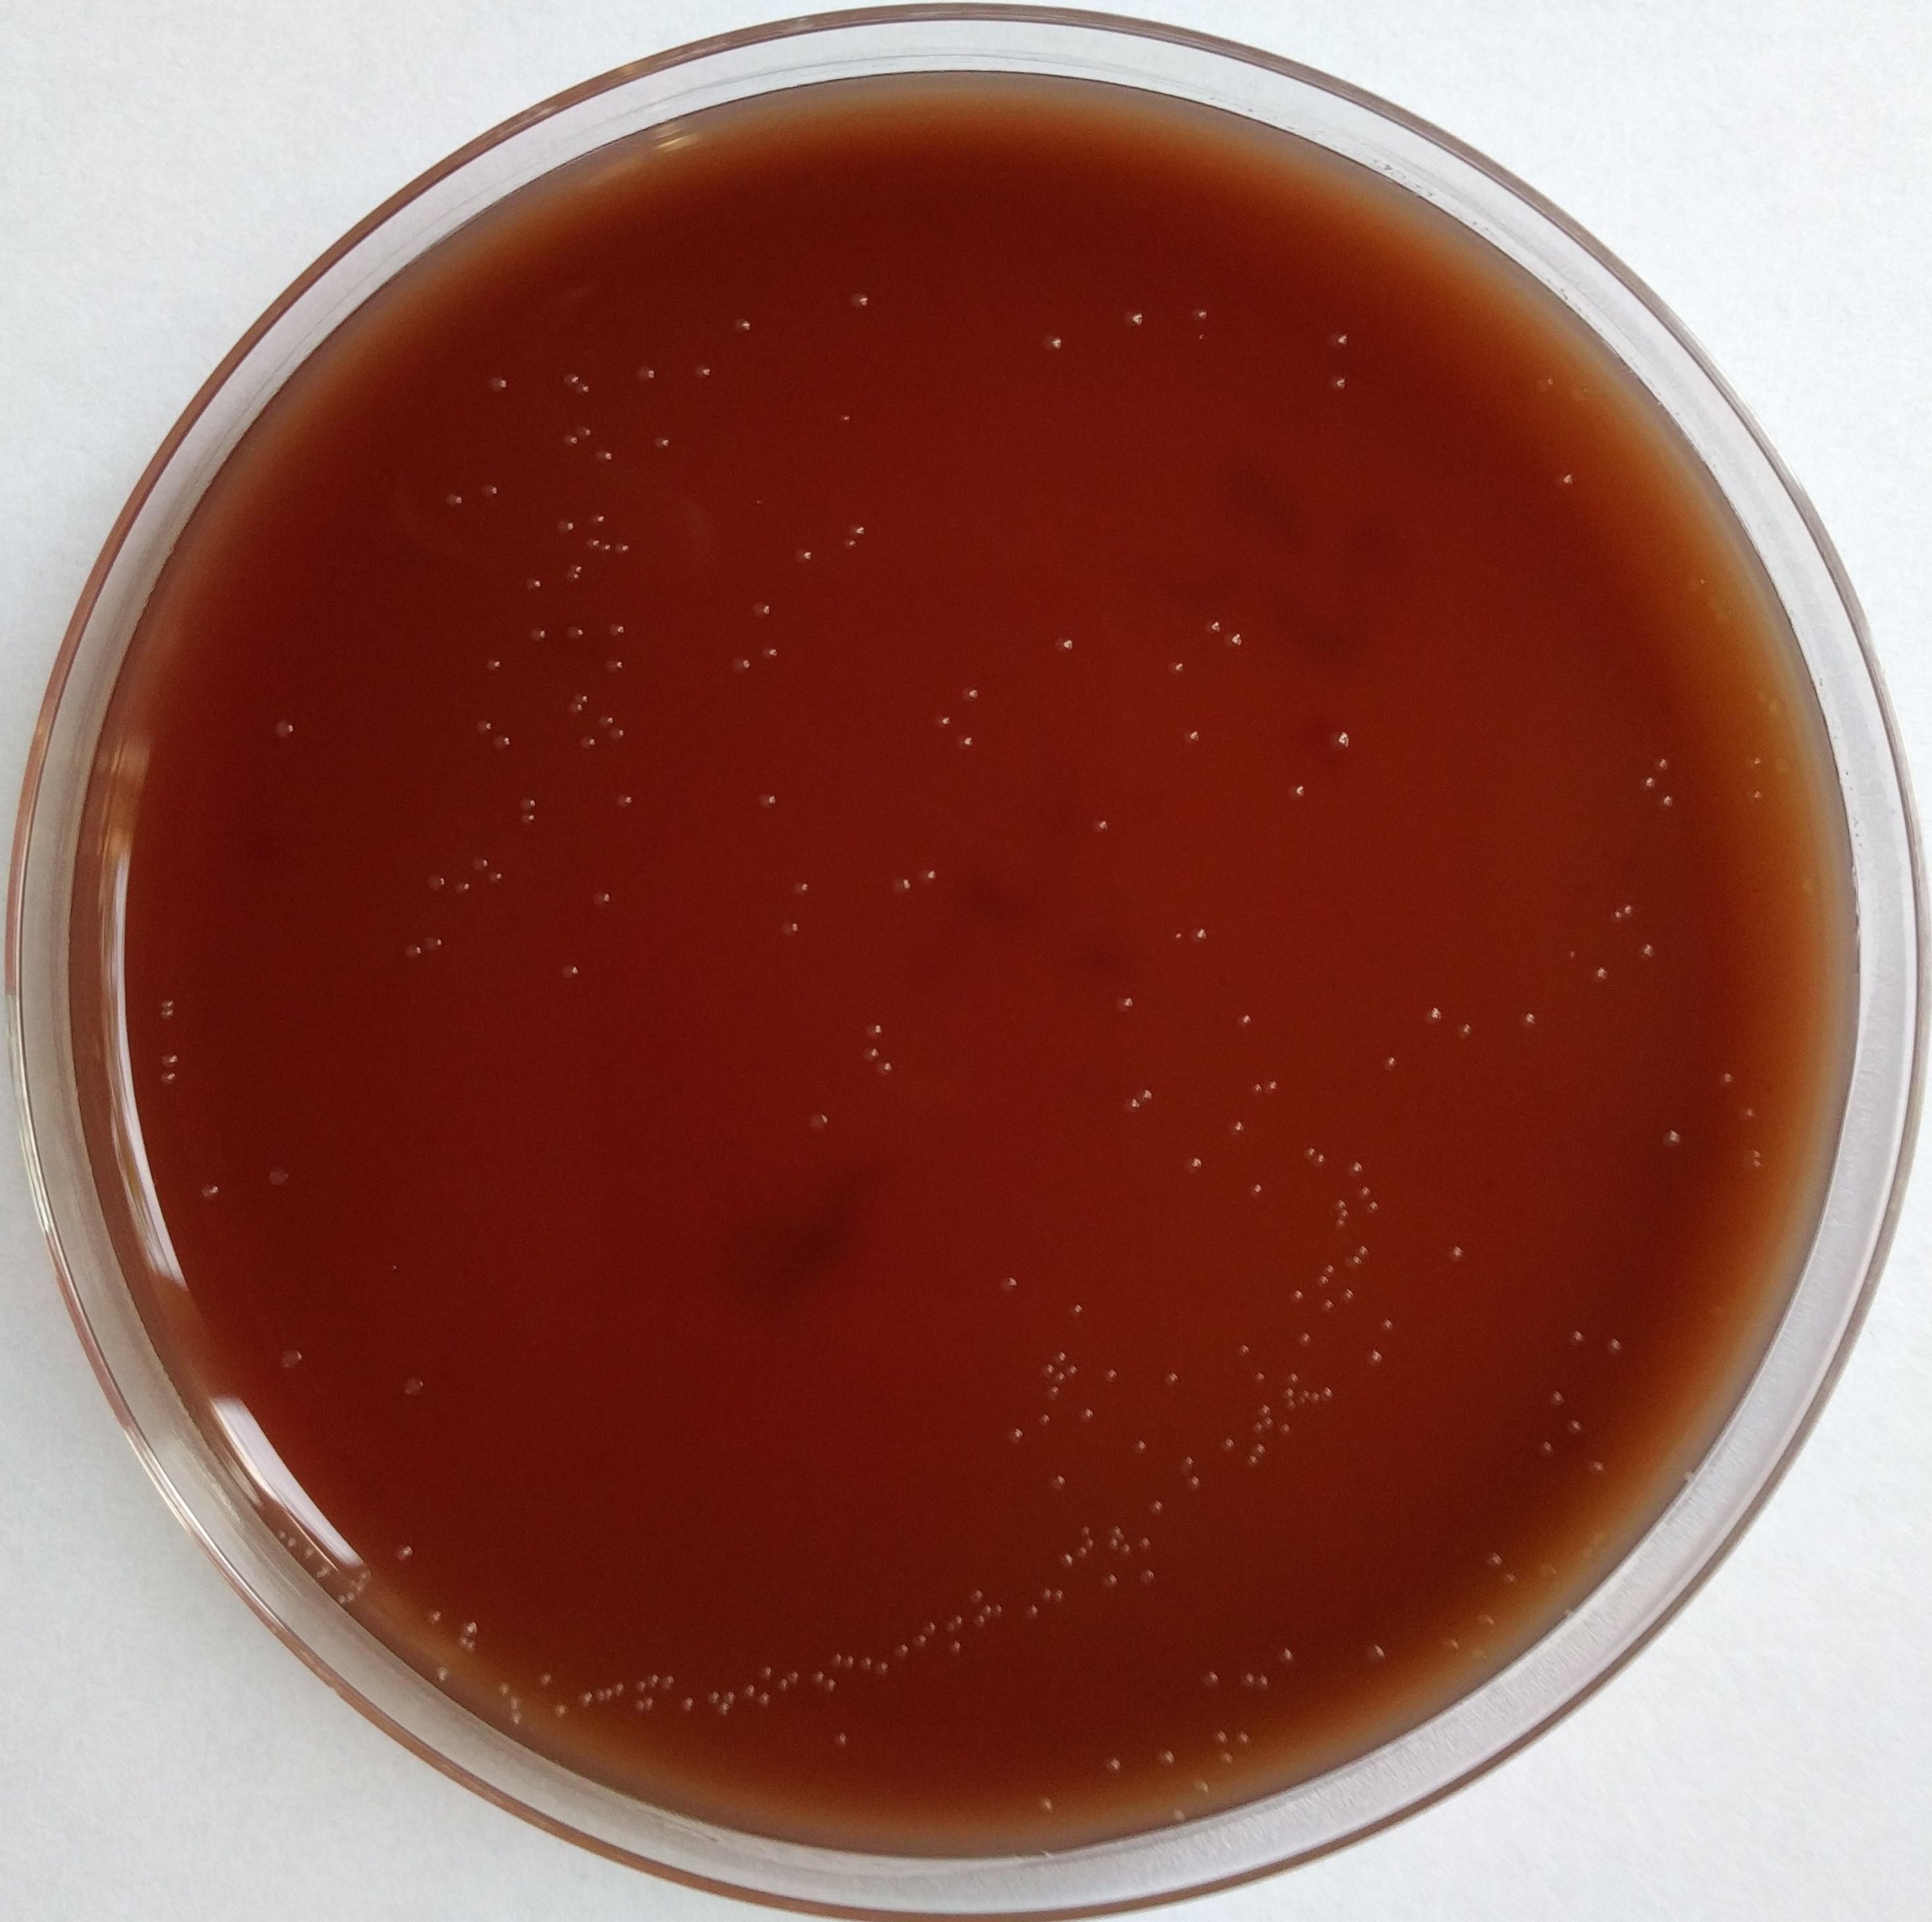sp07: (269, 1345, 313, 1378), (259, 1160, 297, 1197), (1035, 326, 1068, 364), (991, 1269, 1024, 1308), (602, 785, 644, 813), (394, 1375, 433, 1405), (1448, 1016, 1482, 1049), (1279, 780, 1316, 810), (1652, 1125, 1686, 1156), (1714, 1065, 1745, 1098), (1116, 304, 1151, 334), (1179, 1151, 1211, 1183), (475, 479, 509, 509), (1045, 632, 1079, 662), (1529, 364, 1557, 400), (1321, 727, 1357, 755), (1321, 326, 1353, 356), (1420, 1000, 1450, 1031), (1517, 1005, 1547, 1037), (269, 716, 301, 746), (681, 363, 714, 391), (1082, 811, 1116, 840), (1066, 1295, 1094, 1329), (924, 708, 957, 736), (721, 655, 757, 681), (482, 371, 512, 401), (1200, 1667, 1230, 1697), (1360, 1639, 1390, 1669), (194, 1179, 223, 1209), (846, 289, 875, 320), (746, 595, 778, 623), (1131, 1081, 1160, 1112), (1438, 1241, 1469, 1269), (887, 873, 915, 905), (1550, 465, 1577, 498), (1184, 921, 1211, 954), (435, 489, 470, 514), (1601, 1331, 1629, 1361), (889, 1639, 918, 1667), (417, 928, 447, 956), (600, 658, 632, 685), (790, 546, 822, 572), (1175, 725, 1207, 752), (1635, 935, 1659, 968), (801, 1109, 834, 1133), (1378, 1042, 1401, 1077), (728, 315, 757, 343), (1244, 1177, 1272, 1206), (556, 957, 584, 986), (952, 730, 980, 759), (630, 363, 660, 389), (1647, 750, 1677, 776), (1225, 1114, 1251, 1144), (656, 1669, 683, 1698), (394, 936, 424, 963), (514, 806, 544, 833), (1221, 628, 1246, 660), (1170, 1454, 1204, 1477), (649, 429, 677, 456), (563, 623, 589, 651), (1184, 297, 1212, 324), (1742, 783, 1770, 810), (1587, 963, 1615, 989), (1033, 1406, 1059, 1434), (1534, 1561, 1561, 1589), (421, 868, 449, 894), (913, 866, 941, 892), (1327, 370, 1351, 400), (1738, 748, 1763, 778), (1035, 1790, 1059, 1820), (1276, 1642, 1300, 1672), (593, 711, 623, 736), (1045, 1466, 1068, 1498), (1145, 1494, 1168, 1526), (535, 1669, 567, 1691), (1570, 380, 1596, 407), (1738, 1100, 1765, 1126), (1003, 1422, 1029, 1449), (1547, 1389, 1573, 1415), (1019, 1596, 1045, 1623), (449, 875, 475, 901), (957, 681, 984, 708), (611, 537, 635, 565), (1635, 773, 1663, 797), (1557, 943, 1585, 968), (1531, 1440, 1559, 1464), (1283, 1369, 1311, 1394), (1240, 1079, 1270, 1102), (825, 1727, 857, 1748), (551, 516, 575, 542), (577, 533, 602, 560), (524, 623, 551, 648), (479, 657, 505, 681), (607, 618, 632, 644), (839, 537, 866, 561), (1198, 613, 1223, 639), (1738, 1153, 1765, 1177), (1098, 1364, 1123, 1390), (1218, 1433, 1244, 1457), (677, 1691, 704, 1716), (491, 1676, 516, 1702), (421, 1603, 445, 1630), (389, 1540, 415, 1565), (607, 723, 633, 748), (558, 570, 586, 593), (1110, 993, 1138, 1016), (1262, 1074, 1284, 1102), (1077, 1401, 1100, 1429), (1156, 1748, 1184, 1771), (1188, 1774, 1216, 1797), (160, 1044, 183, 1072), (1304, 1383, 1325, 1413), (864, 1014, 885, 1044), (845, 516, 869, 540), (1343, 1156, 1367, 1181), (1374, 1313, 1399, 1338), (1131, 1436, 1156, 1461), (1585, 1454, 1610, 1478), (991, 1596, 1015, 1621), (472, 713, 496, 737), (524, 570, 547, 597), (1615, 898, 1642, 921), (1165, 655, 1191, 678), (1337, 1285, 1360, 1311), (1483, 1547, 1506, 1574), (806, 1669, 832, 1691), (1100, 1751, 1126, 1774), (575, 730, 598, 757), (1606, 901, 1628, 929), (1232, 1010, 1260, 1031), (1094, 1570, 1123, 1591), (1476, 1609, 1497, 1637), (1313, 1146, 1330, 1179), (1161, 926, 1184, 950), (1564, 1417, 1589, 1440), (751, 1690, 774, 1714), (778, 915, 802, 938), (788, 873, 811, 898), (1116, 1100, 1147, 1118), (1353, 1241, 1374, 1267), (1283, 1285, 1309, 1306), (1050, 1345, 1072, 1371), (1052, 1581, 1070, 1612), (873, 1658, 894, 1684), (1233, 1728, 1255, 1755), (704, 1684, 725, 1711), (644, 1669, 665, 1695), (429, 1660, 450, 1686), (588, 887, 614, 908), (860, 1038, 882, 1065), (757, 792, 783, 813), (1323, 1195, 1353, 1213), (558, 433, 581, 456), (1063, 1361, 1086, 1383), (1133, 1531, 1156, 1554), (962, 1584, 985, 1607), (859, 1651, 882, 1674), (785, 1667, 808, 1690), (1441, 1633, 1464, 1656), (589, 1683, 612, 1706), (561, 366, 582, 391), (589, 509, 614, 530), (565, 553, 586, 577), (758, 642, 783, 664), (1658, 789, 1679, 813), (1360, 1199, 1381, 1223), (1043, 1378, 1065, 1403), (1205, 1727, 1230, 1748), (626, 1695, 648, 1720), (507, 1702, 528, 1727), (1255, 1670, 1274, 1697), (489, 732, 516, 752), (514, 794, 542, 811), (574, 384, 595, 407), (1343, 1251, 1364, 1274), (1233, 1341, 1256, 1362), (1568, 1327, 1589, 1350), (1318, 1383, 1339, 1406), (1249, 1417, 1272, 1438), (1184, 1470, 1205, 1493), (1503, 1568, 1524, 1591), (920, 1619, 943, 1640), (908, 1632, 931, 1653), (757, 1662, 779, 1683), (313, 1559, 334, 1582), (612, 1677, 632, 1702), (297, 1540, 322, 1559), (157, 1068, 181, 1088), (1299, 1144, 1320, 1165), (1316, 1294, 1337, 1315), (1163, 1369, 1184, 1390), (1274, 1420, 1295, 1441), (1033, 1581, 1054, 1602), (947, 1639, 968, 1660), (1235, 1669, 1256, 1690), (470, 852, 491, 873), (577, 421, 596, 444), (1276, 1385, 1299, 1405), (1253, 1436, 1272, 1459), (1138, 1565, 1158, 1588), (1056, 1551, 1075, 1574), (839, 1649, 859, 1672), (1212, 1744, 1235, 1764), (157, 1003, 176, 1026), (487, 866, 507, 889), (873, 1058, 892, 1081), (596, 537, 614, 561), (577, 1693, 602, 1711), (459, 1639, 484, 1656), (567, 699, 591, 716), (1314, 1264, 1341, 1280), (644, 1690, 660, 1716), (836, 408, 855, 429), (1330, 1218, 1351, 1237), (1035, 1359, 1056, 1378), (1365, 1346, 1385, 1368), (822, 1677, 843, 1697), (714, 1700, 734, 1721), (551, 1698, 570, 1720), (283, 1535, 303, 1556), (572, 686, 591, 708), (1168, 1806, 1188, 1827), (595, 447, 618, 465), (1293, 1390, 1311, 1413), (1251, 1401, 1274, 1419), (723, 1688, 741, 1711), (632, 1672, 649, 1695), (274, 1524, 292, 1547), (1311, 1271, 1336, 1287), (975, 1600, 999, 1616), (1050, 1368, 1070, 1387), (1246, 1450, 1265, 1470), (971, 1612, 991, 1632), (352, 1565, 371, 1584), (1353, 1179, 1371, 1200), (459, 1621, 480, 1639), (157, 993, 178, 1010), (1075, 1522, 1098, 1538), (347, 1582, 371, 1596), (1295, 1329, 1313, 1348), (940, 1618, 959, 1635), (1295, 1385, 1316, 1401), (827, 1647, 843, 1669), (774, 1677, 792, 1695), (505, 1693, 523, 1711), (1251, 1369, 1267, 1389), (604, 1683, 619, 1702), (1738, 1144, 1763, 1156), (1073, 1540, 1087, 1561), (741, 1681, 755, 1702), (1283, 1401, 1300, 1417), (1105, 1524, 1121, 1542), (1105, 1537, 1121, 1554), (1117, 1542, 1135, 1558), (345, 1589, 361, 1607), (334, 1588, 348, 1607), (454, 1632, 470, 1647), (1263, 1413, 1277, 1431), (1191, 329, 1207, 343), (952, 1610, 966, 1626), (1337, 1209, 1353, 1221), (1084, 1538, 1098, 1549)
